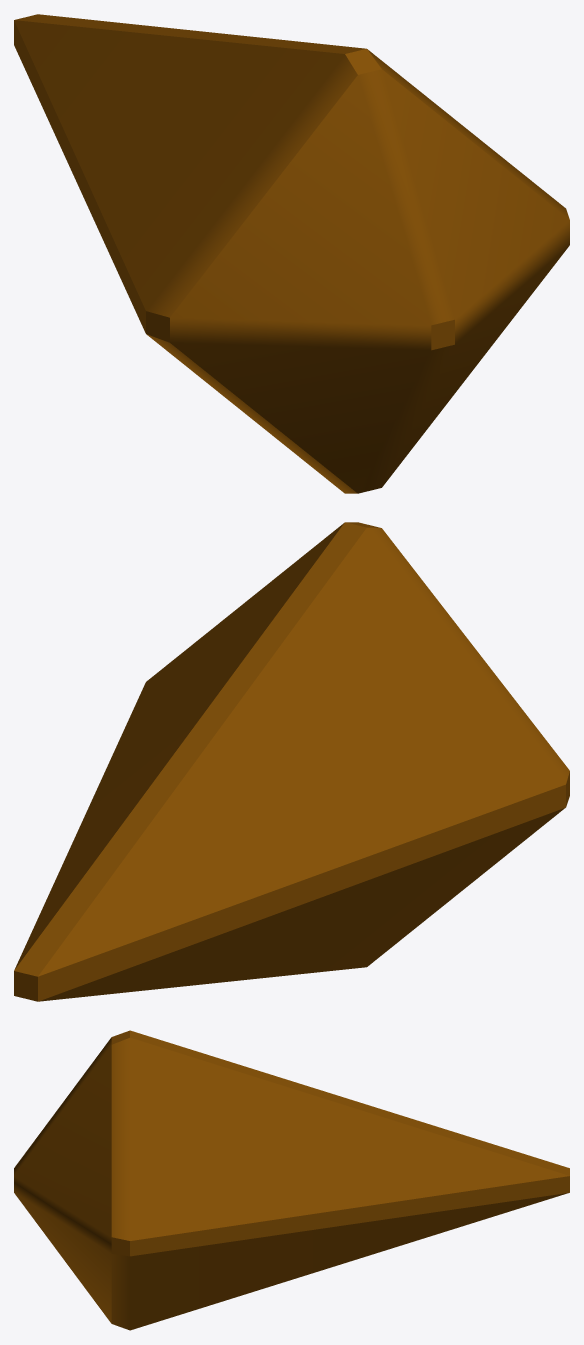
Rendered from Gaught Needle.fbx.
3 renders of one model, top to bottom at view 1: azimuth 30°, elevation 25°; view 2: azimuth 150°, elevation 25°; view 3: azimuth 270°, elevation 25°, orthographic. The views are drawn at different scales.
Visible parts, largest first — view 1: pPyramid1; view 2: pPyramid1; view 3: pPyramid1.
Part boxes in pixels (bbox=[...]): pPyramid1: bbox=[14, 14, 569, 493]; pPyramid1: bbox=[14, 522, 569, 1001]; pPyramid1: bbox=[14, 1030, 569, 1330].
Size of the model in its own units: 1.85 by 1.85 by 3.18.
